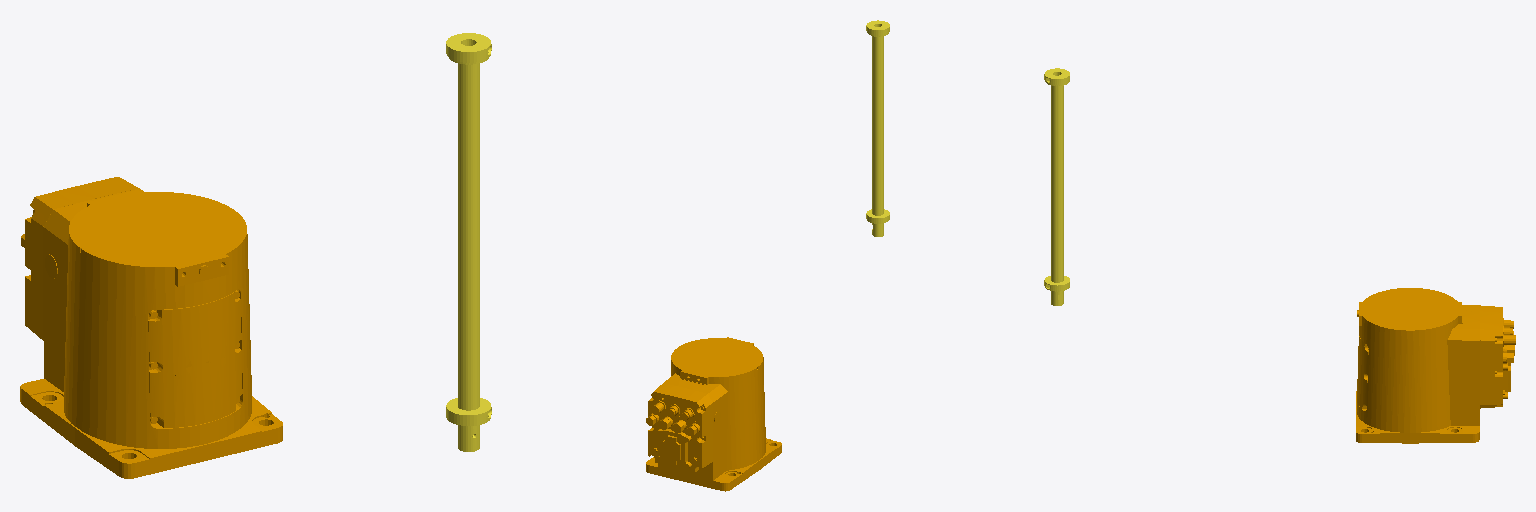
robot.urdf — IRB920_6kg_550_180_STD:
<?xml version="1.0" ?>
<robot name="IRB920_6kg_550_180_STD">

<link name="base_link">
  <inertial>
    <origin xyz="-0.027673827537510368 -0.0026803255602852526 0.0942820642453871" rpy="0 0 0"/>
    <mass value="41.12591553669811"/>
    <inertia ixx="0.263418" iyy="0.182723" izz="0.209732" ixy="-5.3e-05" iyz="-0.005906" ixz="2e-06"/>
  </inertial>
  <visual>
    <origin xyz="0 0 0" rpy="0 0 0"/>
    <geometry>
      <mesh filename="meshes/base_link.stl" scale="0.001 0.001 0.001"/>
    </geometry>
  </visual>
  <collision>
    <origin xyz="0 0 0" rpy="0 0 0"/>
    <geometry>
      <mesh filename="meshes/base_link.stl" scale="0.001 0.001 0.001"/>
    </geometry>
  </collision>
</link>

<link name="link1_1">
  <inertial>
    <origin xyz="1.284644156949663e-05 -0.12564877114131737 0.0457295127124778" rpy="0 0 0"/>
    <mass value="32.62635723576266"/>
    <inertia ixx="0.484729" iyy="0.06875" izz="0.525248" ixy="-1.7e-05" iyz="0.020761" ixz="1.5e-05"/>
  </inertial>
  <visual>
    <origin xyz="0.027677 0.027437 -0.1914" rpy="0 0 0"/>
    <geometry>
      <mesh filename="meshes/link1_1.stl" scale="0.001 0.001 0.001"/>
    </geometry>
  </visual>
  <collision>
    <origin xyz="0.027677 0.027437 -0.1914" rpy="0 0 0"/>
    <geometry>
      <mesh filename="meshes/link1_1.stl" scale="0.001 0.001 0.001"/>
    </geometry>
  </collision>
</link>

<link name="link2_1">
  <inertial>
    <origin xyz="2.9556487467288783e-06 -0.09936803691337931 0.0836813784830957" rpy="0 0 0"/>
    <mass value="75.77408460894007"/>
    <inertia ixx="1.206999" iyy="0.309324" izz="1.132456" ixy="-1.3e-05" iyz="-0.072376" ixz="1.8e-05"/>
  </inertial>
  <visual>
    <origin xyz="0.027677 0.317437 -0.2774" rpy="0 0 0"/>
    <geometry>
      <mesh filename="meshes/link2_1.stl" scale="0.001 0.001 0.001"/>
    </geometry>
  </visual>
  <collision>
    <origin xyz="0.027677 0.317437 -0.2774" rpy="0 0 0"/>
    <geometry>
      <mesh filename="meshes/link2_1.stl" scale="0.001 0.001 0.001"/>
    </geometry>
  </collision>
</link>

<link name="link3_1">
  <inertial>
    <origin xyz="-7.441273095163889e-05 7.513882589227361e-05 0.16549531801456768" rpy="0 0 0"/>
    <mass value="0.6594614836495646"/>
    <inertia ixx="0.011651" iyy="0.011651" izz="7.7e-05" ixy="-1e-06" iyz="-1e-06" ixz="-0.0"/>
  </inertial>
  <visual>
    <origin xyz="0.027677 0.577437 -0.2414" rpy="0 0 0"/>
    <geometry>
      <mesh filename="meshes/link3_1.stl" scale="0.001 0.001 0.001"/>
    </geometry>
  </visual>
  <collision>
    <origin xyz="0.027677 0.577437 -0.2414" rpy="0 0 0"/>
    <geometry>
      <mesh filename="meshes/link3_1.stl" scale="0.001 0.001 0.001"/>
    </geometry>
  </collision>
</link>

<joint name="j1" type="continuous">
  <origin xyz="-0.027677 -0.027437 0.1914" rpy="0 0 0"/>
  <parent link="base_link"/>
  <child link="link1_1"/>
  <axis xyz="0.0 0.0 1.0"/>
</joint>

<joint name="j2" type="continuous">
  <origin xyz="0.0 -0.29 0.086" rpy="0 0 0"/>
  <parent link="link1_1"/>
  <child link="link2_1"/>
  <axis xyz="0.0 0.0 1.0"/>
</joint>

<joint name="j3" type="prismatic">
  <origin xyz="0.0 -0.26 -0.036" rpy="0 0 0"/>
  <parent link="link2_1"/>
  <child link="link3_1"/>
  <axis xyz="-0.0 -0.0 -1.0"/>
  <limit upper="0.0" lower="0.0" effort="100" velocity="100"/>
</joint>

</robot>

--- Render facts (derived) ---
3 views of the same robot in one strip: view 1: azimuth 30°, elevation 25°; view 2: azimuth 150°, elevation 25°; view 3: azimuth 270°, elevation 25° (orthographic).
Model IRB920_6kg_550_180_STD with 4 links and 3 joints (2 continuous, 1 prismatic), rooted at base_link, posed every joint at zero.
Visible links, largest first — view 1: base_link, link3_1; view 2: base_link, link3_1; view 3: base_link, link3_1.
Boxes of the visible links, <box> form: base_link: <box>20,177,282,478</box>; link3_1: <box>446,33,491,451</box>; base_link: <box>646,337,781,491</box>; link3_1: <box>866,20,889,236</box>; base_link: <box>1356,288,1515,443</box>; link3_1: <box>1044,68,1069,305</box>.
Size in the robot's own frame: 0.17 by 0.7338 by 0.5959 metres.
2 mesh visuals loaded from 4 distinct referenced files (2 binary STL); not drawn: 2 (reference not matched to a file when rendering).